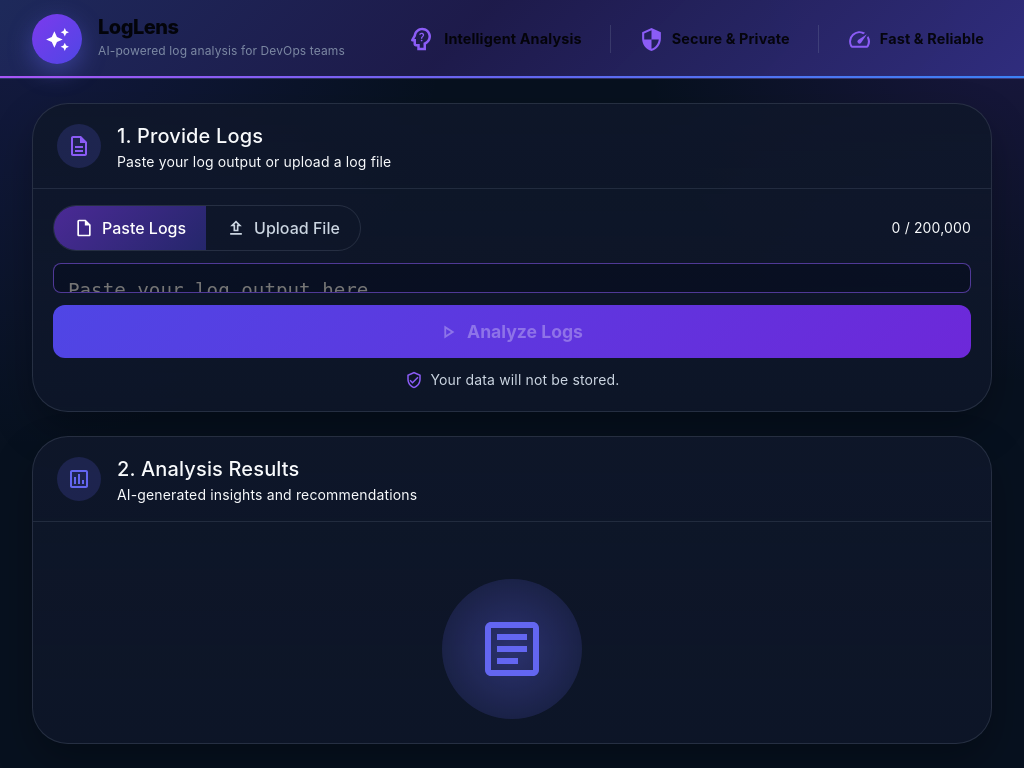
Test case: App › typing logs clears any previously selected file (mutual exclusion)
Step 1. Replace the text in the text box named "Log text input" with "some logs" → (512, 278), box [53, 263, 971, 293]
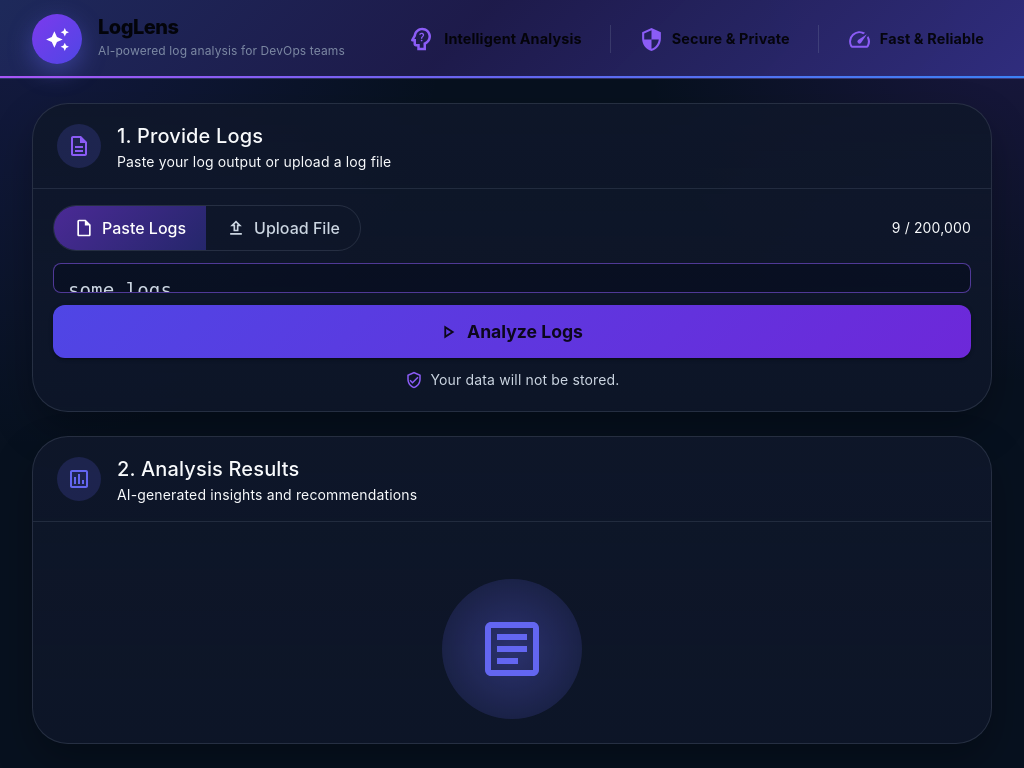
Now the button "Analyze Logs" is enabled, box [53, 305, 971, 358]
